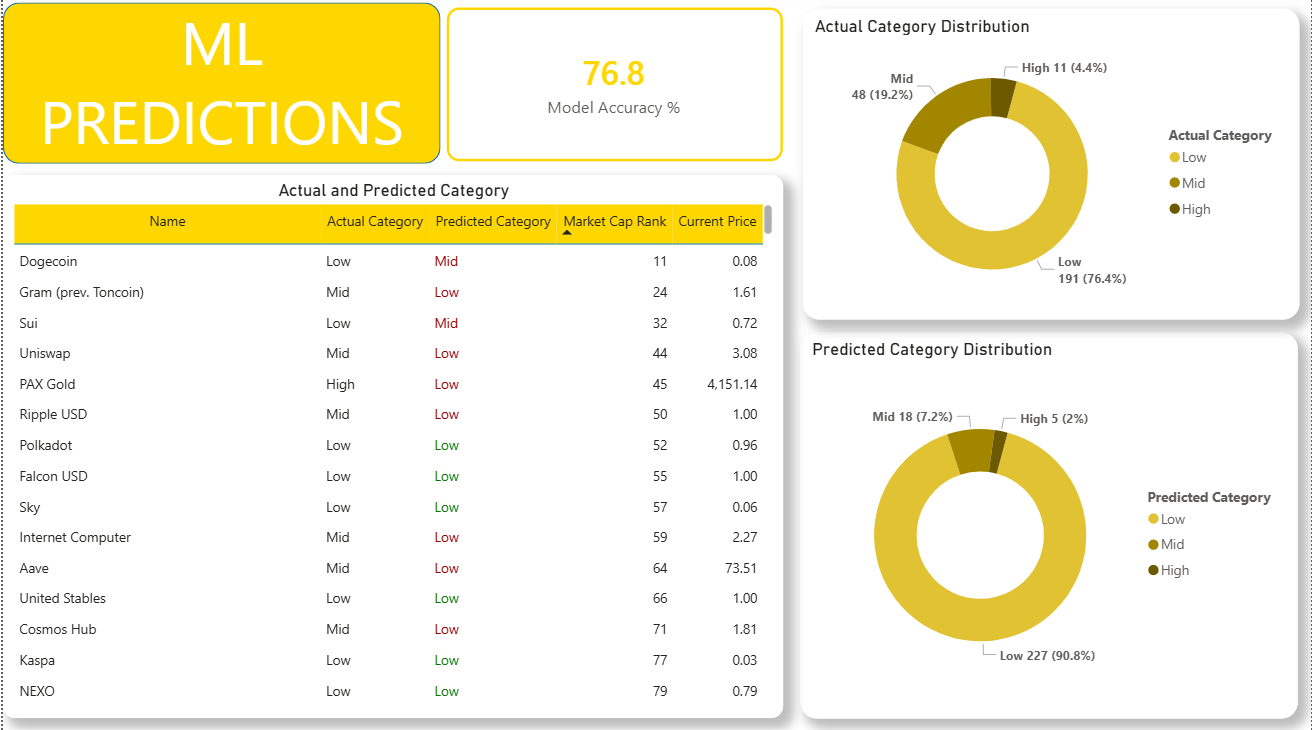

This screenshot's page, from the dashboard's own definition file:
{"tool":"powerbi","page":{"name":"ML Predictions","canvas":[1280,720],"ordinal":2},"visuals":[{"type":"donutChart","title":"Predicted Category Distribution","fields":{"Y":["CountNonNull(predictions.predicted_category)"],"Category":["predictions.predicted_category"]},"box":[780.8,330.2,486.6,377.4],"z":0},{"type":"tableEx","title":"Actual and Predicted Category","fields":{"Values":["predictions.name","predictions.actual_category","predictions.predicted_category","predictions.market_cap_rank","predictions.current_price"]},"box":[0,176.3,763.4,531.3],"z":1000},{"type":"cardVisual","fields":{"Data":["MeasureTable.Model Accuracy"]},"box":[434.5,12.4,328.9,150.2],"z":2000},{"type":"donutChart","title":"Actual Category Distribution","fields":{"Category":["predictions.actual_category"],"Y":["CountNonNull(predictions.actual_category)"]},"box":[782.3,13,485.9,303.7],"z":3000},{"type":"shape","box":[0,7.3,428,157.7],"z":4000},{"type":"textbox","box":[17.1,0,393.8,165.1],"z":5000}]}

Visuals, with their boxes in screenshot pixels (x1, y1, x2, y2), scaled from the page's 1280x720 canvas onto the 1312x730 screenshot:
"Predicted Category Distribution" donutChart: {"left": 800, "top": 335, "right": 1299, "bottom": 717}
"Actual and Predicted Category" tableEx: {"left": 0, "top": 179, "right": 782, "bottom": 717}
cardVisual - MeasureTable.Model Accuracy: {"left": 445, "top": 13, "right": 782, "bottom": 165}
"Actual Category Distribution" donutChart: {"left": 802, "top": 13, "right": 1300, "bottom": 321}
shape: {"left": 0, "top": 7, "right": 439, "bottom": 167}
textbox: {"left": 18, "top": 0, "right": 421, "bottom": 167}
